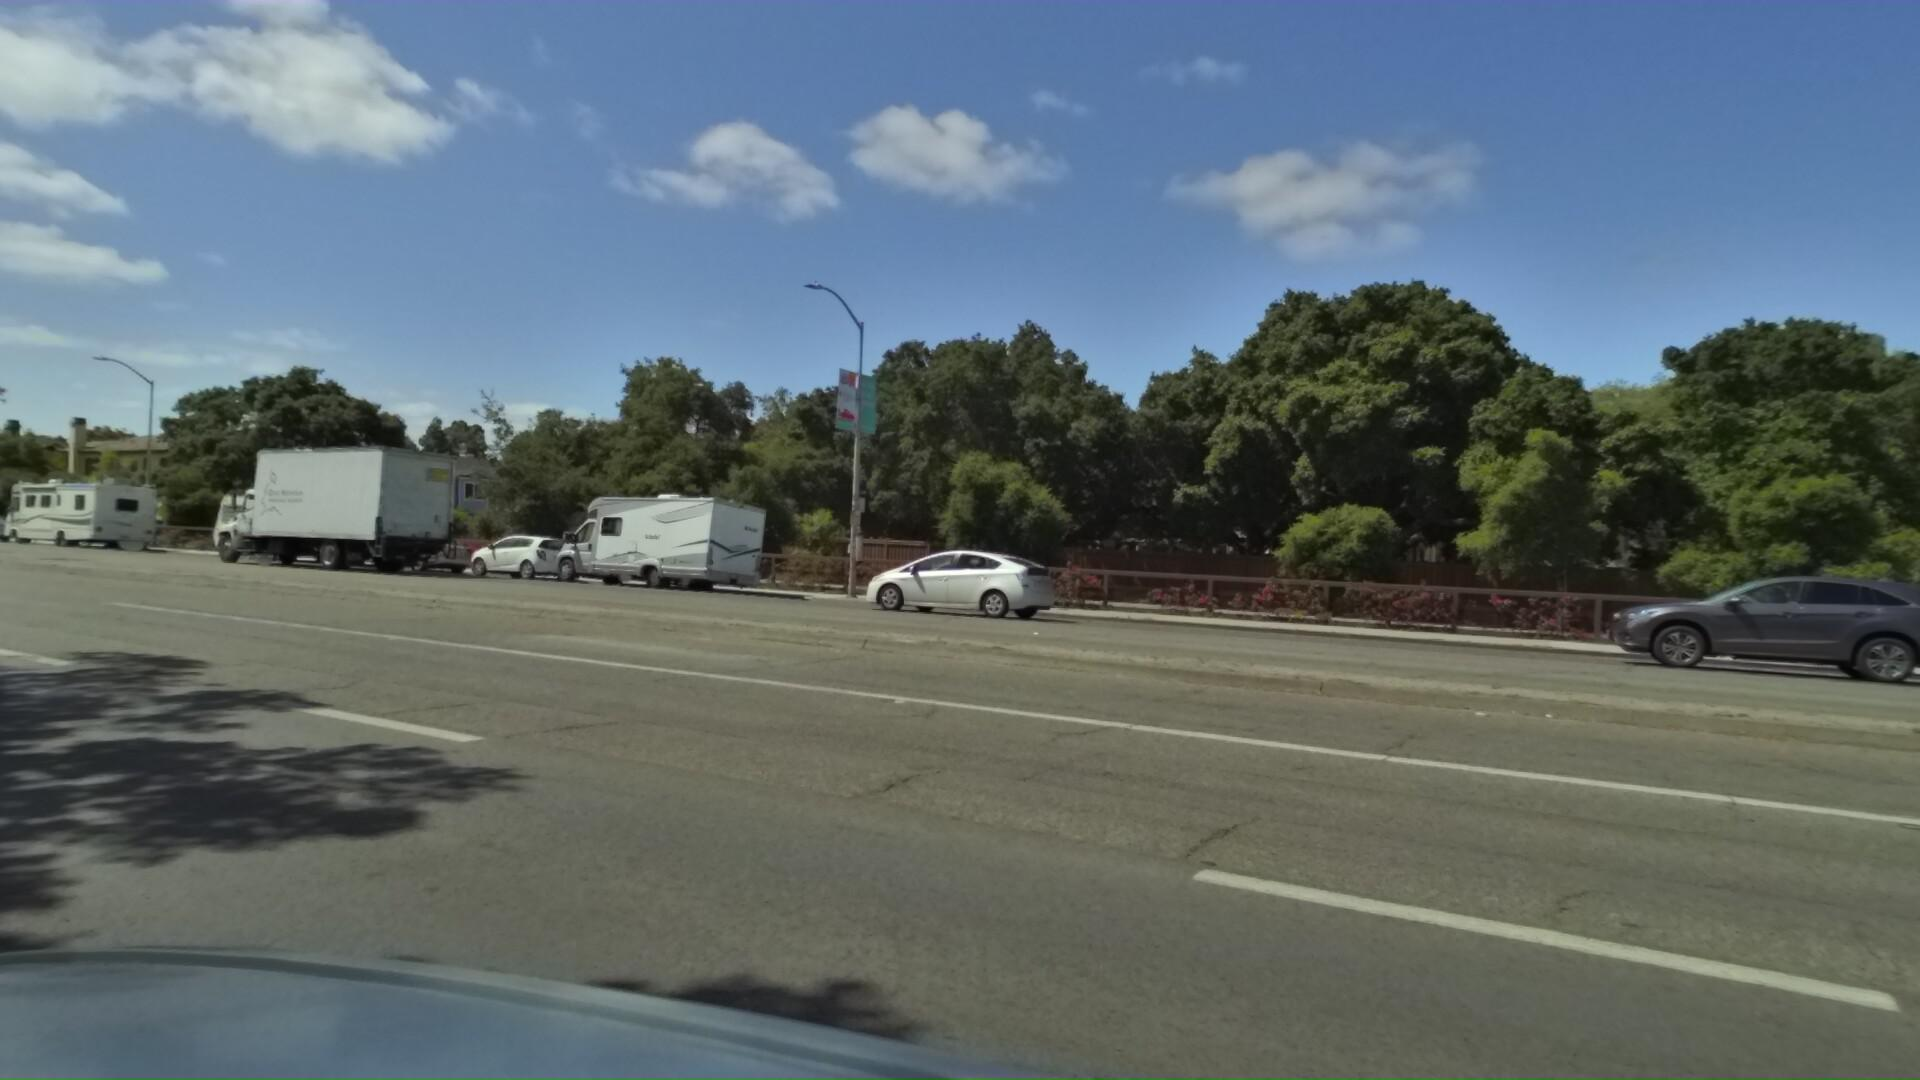car: (1545, 551, 1905, 688), (825, 541, 1036, 622), (460, 531, 579, 585), (359, 530, 475, 579), (0, 512, 22, 549)
other_vehicle: (530, 488, 766, 599), (206, 483, 404, 570), (0, 471, 167, 560)
truck: (189, 440, 465, 575)
